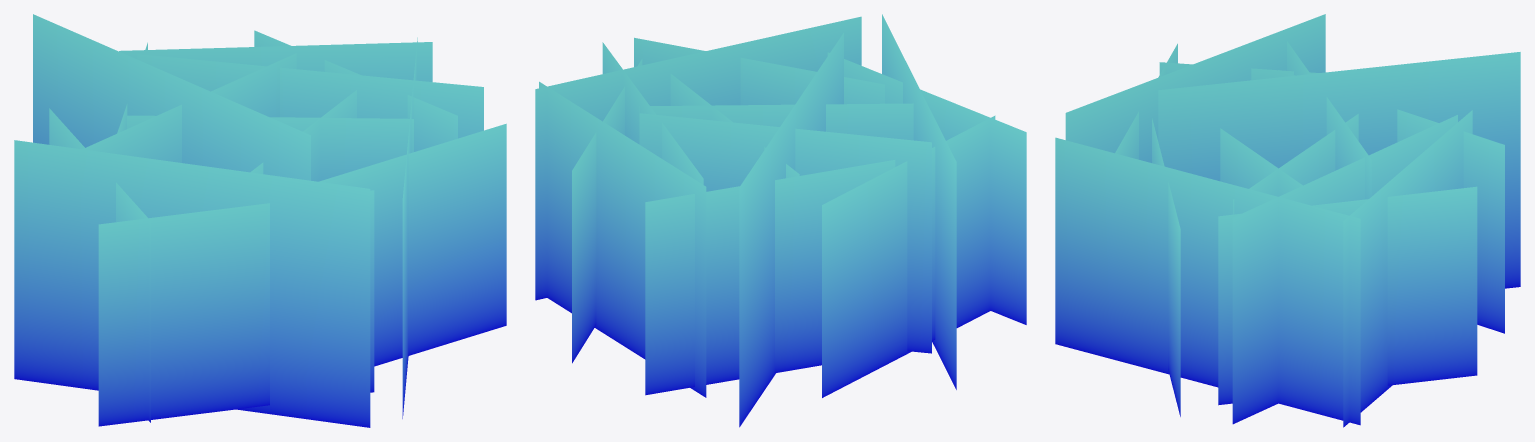
The model's file is SM_Env_Grass_Tall_Clump_03.FBX.
The picture shows the model from 3 angles, left to right: view 1: azimuth 30°, elevation 25°; view 2: azimuth 150°, elevation 25°; view 3: azimuth 270°, elevation 25°; orthographic projection. The views are drawn at different scales.
Parts seen in each view (by area): view 1: SM_Env_Grass_Tall_Clump_03; view 2: SM_Env_Grass_Tall_Clump_03; view 3: SM_Env_Grass_Tall_Clump_03.
Part boxes in pixels (x1,y1,x2,y2): SM_Env_Grass_Tall_Clump_03: [14, 14, 506, 427]; SM_Env_Grass_Tall_Clump_03: [535, 14, 1026, 427]; SM_Env_Grass_Tall_Clump_03: [1055, 14, 1520, 427].
Bounding box in the file's own units: 172 × 173 × 99.37.
